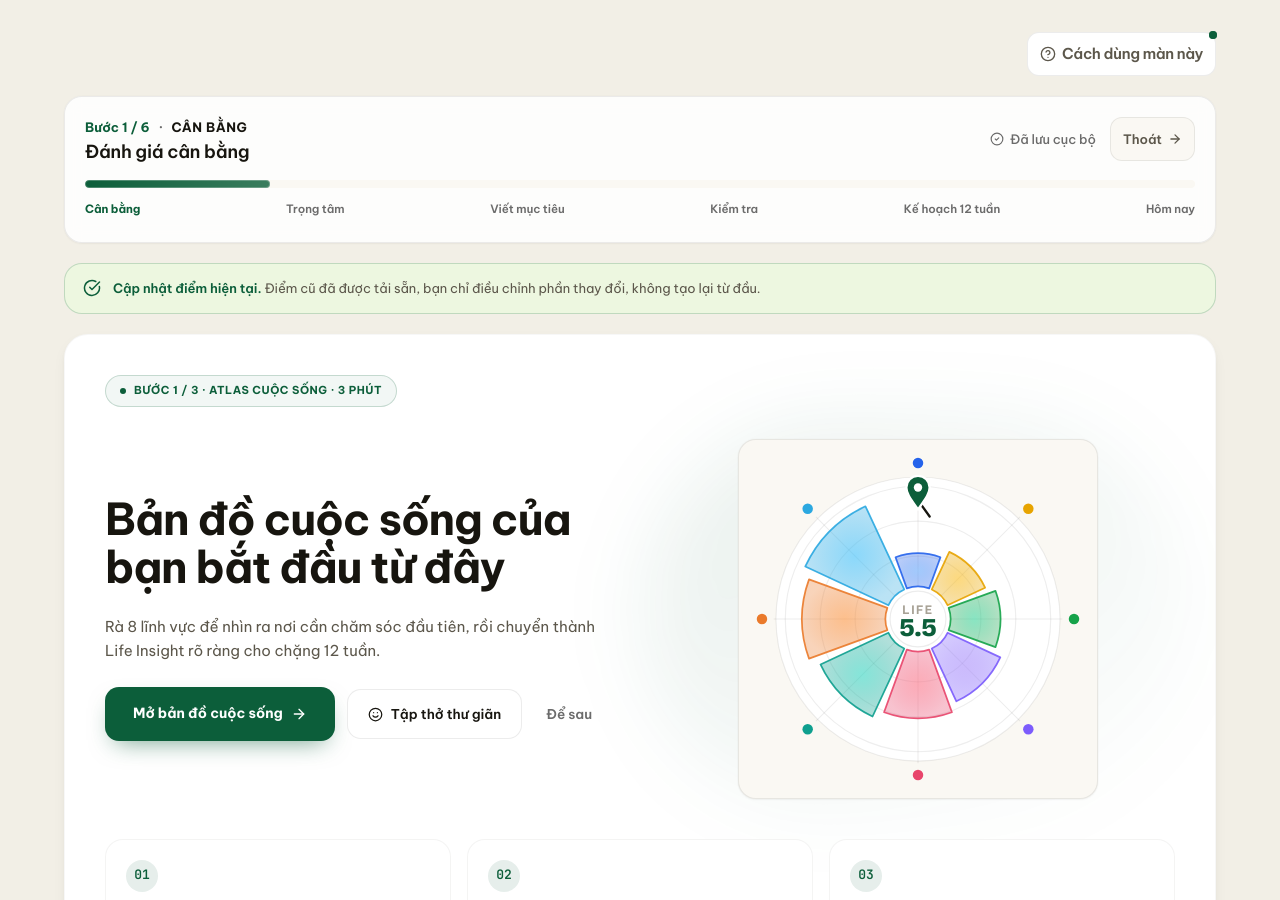
Test: Onboarding › returning user sees previously saved scores after save-and-return
This screenshot has width=1280, height=900.
Check: the text "Cập nhật điểm hiện tại." is shown, box [113, 280, 262, 296]
Note: Go to assessment and verify first slider value
Click the button "Mở bản đồ cuộc sống": (220, 714) [105, 687, 335, 741]
(page scrolled)
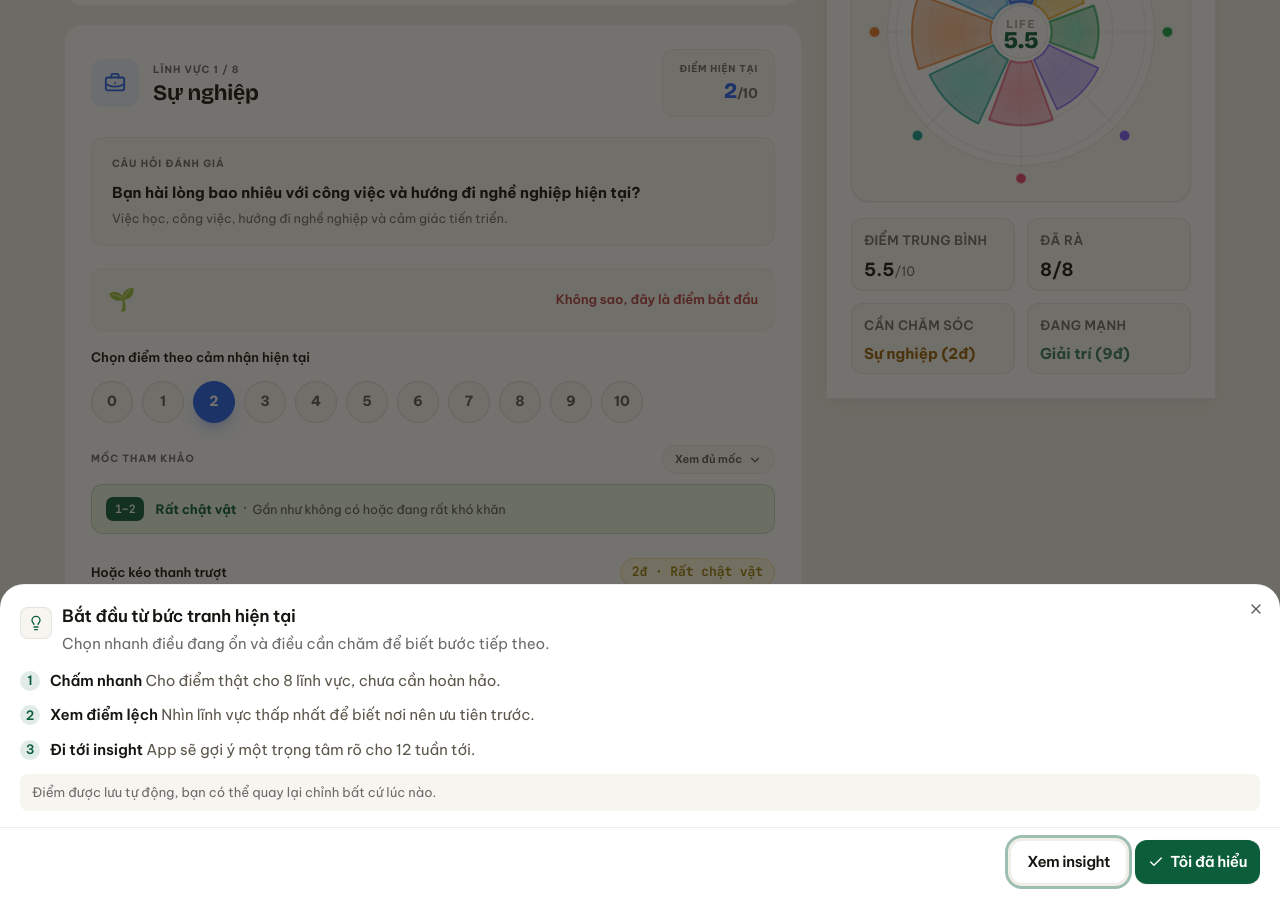
Check: the slider holds "2", box [145, 614, 721, 622]
